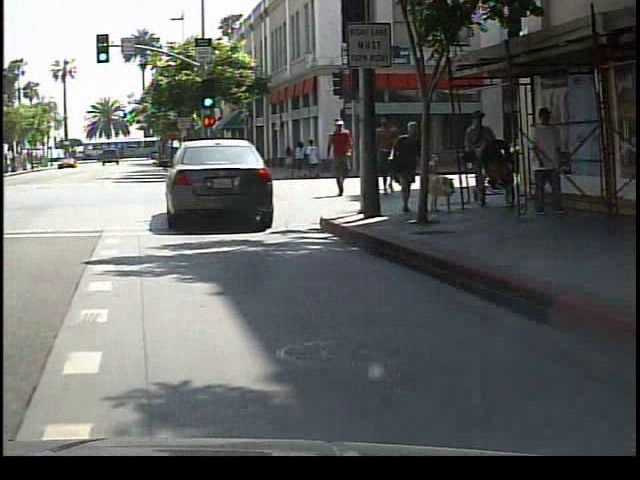person: (369, 109, 403, 201), (326, 114, 362, 200)
